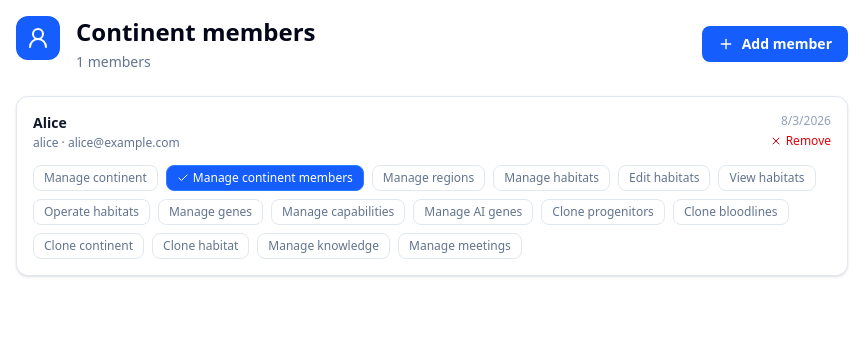
WorldMembersPage › surfaces a localized message when stripping your own permission is rejected
This screenshot has width=865, height=364.
Click the button "Remove": click(800, 141) [770, 133, 831, 149]
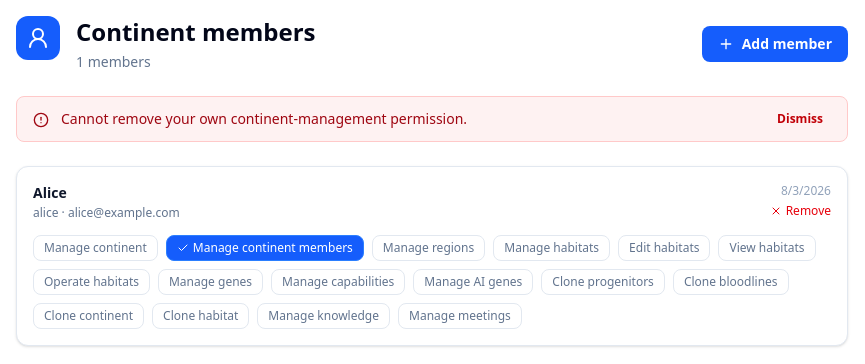
Expected: the text "Cannot remove your own continent-management permission." is shown, [61, 109, 467, 128]
